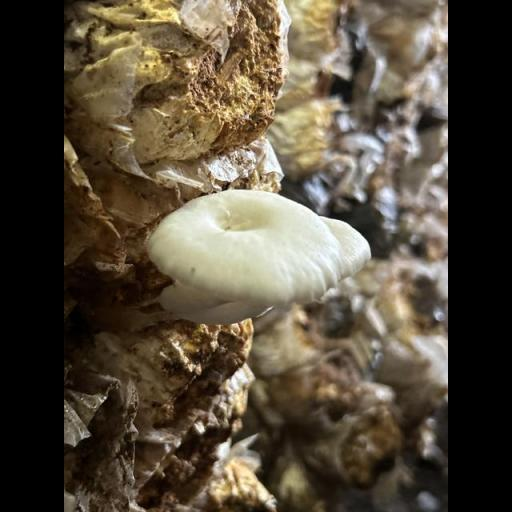White Oyster Mushroom: (144, 187, 369, 325)
